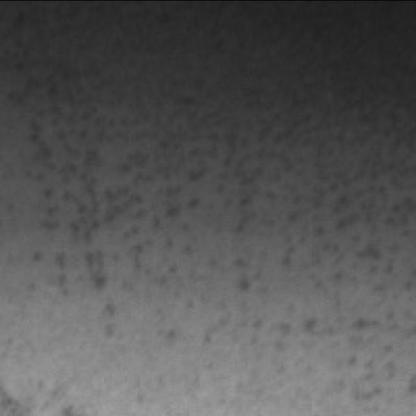pitted_surface: (22, 81, 404, 324)
